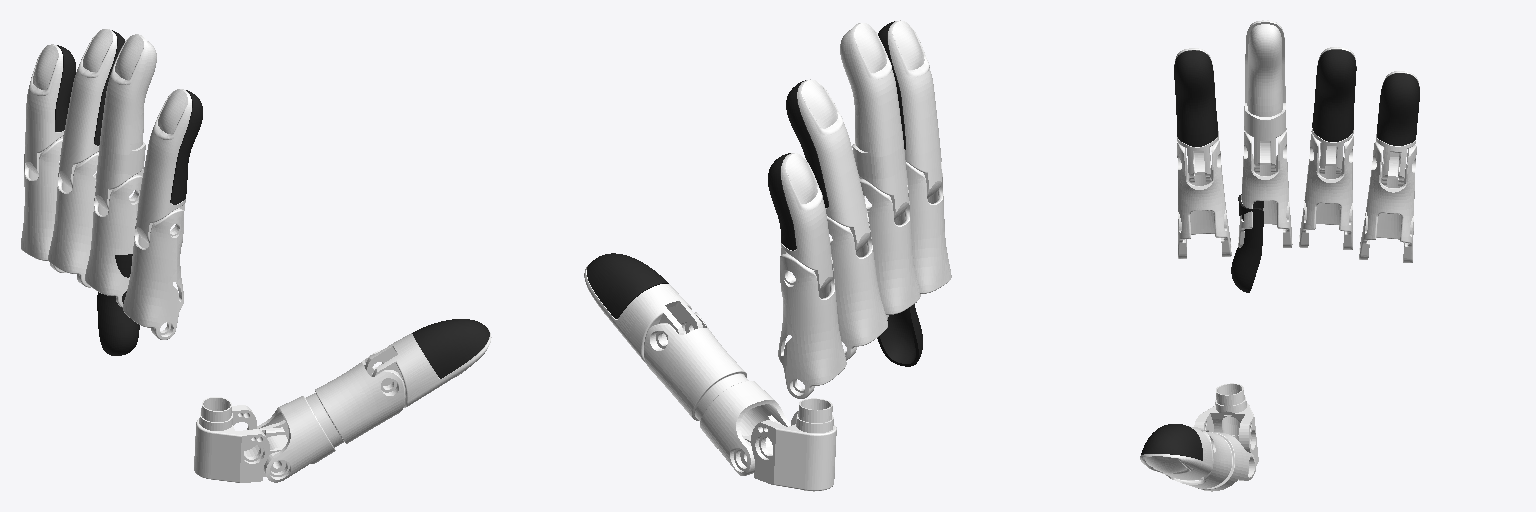
URDF robot description (L_DH116-L000-A1):
<?xml version="1.0" encoding="utf-8"?>
<!-- This URDF was automatically created by SolidWorks to URDF Exporter! Originally created by [author] ([email redacted]) 
     Commit Version: 1.6.0-4-g7f85cfe  Build Version: 1.6.7995.38578
     For more information, please see http://wiki.ros.org/sw_urdf_exporter -->
<robot name="L_DH116-L000-A1">
  <link name="L_base_link">
    <inertial>
      <origin xyz="-0.004908 -0.0023087 0.053425" rpy="0 0 0" />
      <mass value="0.11674" />
      <inertia ixx="8.8343E-05" ixy="-1.5779E-07" ixz="2.7103E-06" iyy="5.7065E-05" iyz="4.0956E-07" izz="4.4559E-05" />
    </inertial>
    <visual>
      <origin xyz="0 0 0" rpy="0 0 0" />
      <geometry>
        <mesh filename="L_package://DH116-L000-A1/meshes/base_link.STL" />
      </geometry>
      <material name="L_">
        <color rgba="1 1 1 1" />
      </material>
    </visual>
    <collision>
      <origin xyz="0 0 0" rpy="0 0 0" />
      <geometry>
        <mesh filename="L_package://DH116-L000-A1/meshes/base_link.STL" />
      </geometry>
    </collision>
  </link>
  <link name="L_finger11_Link">
    <inertial>
      <origin xyz="0.0078225 -0.0020462 0.00068777" rpy="0 0 0" />
      <mass value="0.010254" />
      <inertia ixx="7.2141E-07" ixy="1.1025E-07" ixz="1.8578E-07" iyy="1.1141E-06" iyz="-4.8596E-08" izz="1.144E-06" />
    </inertial>
    <visual>
      <origin xyz="0 0 0" rpy="0 0 0" />
      <geometry>
        <mesh filename="L_package://DH116-L000-A1/meshes/finger11_Link.STL" />
      </geometry>
      <material name="L_">
        <color rgba="1 1 1 1" />
      </material>
    </visual>
    <collision>
      <origin xyz="0 0 0" rpy="0 0 0" />
      <geometry>
        <mesh filename="L_package://DH116-L000-A1/meshes/finger11_Link.STL" />
      </geometry>
    </collision>
  </link>
  <joint name="L_finger11" type="revolute">
    <origin xyz="0.018 -0.021464 0.040041" rpy="0.087266 0 0" />
    <parent link="L_base_link" />
    <child link="L_finger11_Link" />
    <axis xyz="0 0 1" />
    <limit lower="-1.57" upper="1.57" effort="0" velocity="0" />
  </joint>
  <link name="L_finger12_Link">
    <inertial>
      <origin xyz="0.001442 5.4239E-07 0.024371" rpy="0 0 0" />
      <mass value="0.010117" />
      <inertia ixx="2.4721E-06" ixy="3.5819E-11" ixz="-8.7771E-08" iyy="2.2849E-06" iyz="1.0447E-12" izz="8.8673E-07" />
    </inertial>
    <visual>
      <origin xyz="0 0 0" rpy="0 0 0" />
      <geometry>
        <mesh filename="L_package://DH116-L000-A1/meshes/finger12_Link.STL" />
      </geometry>
      <material name="L_">
        <color rgba="1 1 1 1" />
      </material>
    </visual>
    <collision>
      <origin xyz="0 0 0" rpy="0 0 0" />
      <geometry>
        <mesh filename="L_package://DH116-L000-A1/meshes/finger12_Link.STL" />
      </geometry>
    </collision>
  </link>
  <joint name="L_finger12" type="revolute">
    <origin xyz="0.018876 -0.0049375 -0.0023593" rpy="0 0.95149 -0.25585" />
    <parent link="L_finger11_Link" />
    <child link="L_finger12_Link" />
    <axis xyz="0 -1 0" />
    <limit lower="0" upper="1.57" effort="0" velocity="0" />
  </joint>
  <link name="L_finger13_Link">
    <inertial>
      <origin xyz="0.0064864 1.9023E-06 0.014709" rpy="0 0 0" />
      <mass value="0.020548" />
      <inertia ixx="2.4642E-06" ixy="-1.8605E-10" ixz="-1.2758E-07" iyy="2.3554E-06" iyz="-2.9766E-10" izz="8.7678E-07" />
    </inertial>
    <visual>
      <origin xyz="0 0 0" rpy="0 0 0" />
      <geometry>
        <mesh filename="L_package://DH116-L000-A1/meshes/finger13_Link.STL" />
      </geometry>
      <material name="L_">
        <color rgba="1 1 1 1" />
      </material>
    </visual>
    <collision>
      <origin xyz="0 0 0" rpy="0 0 0" />
      <geometry>
        <mesh filename="L_package://DH116-L000-A1/meshes/finger13_Link.STL" />
      </geometry>
    </collision>
  </link>
  <joint name="L_finger13" type="revolute">
    <origin xyz="0 0 0.045" rpy="0 0 0" />
    <parent link="L_finger12_Link" />
    <child link="L_finger13_Link" />
    <axis xyz="0 -1 0" />
    <limit lower="0" upper="1.57" effort="0" velocity="0" />
  </joint>
  <link name="L_finger14_Link">
    <inertial>
      <origin xyz="0.0030983 6.4415E-07 0.024752" rpy="0 0 0" />
      <mass value="0.00063385" />
      <inertia ixx="4.5297E-08" ixy="-1.7549E-11" ixz="-6.8692E-09" iyy="3.0365E-08" iyz="3.6154E-12" izz="3.2628E-08" />
    </inertial>
    <visual>
      <origin xyz="0 0 0" rpy="0 0 0" />
      <geometry>
        <mesh filename="L_package://DH116-L000-A1/meshes/finger14_Link.STL" />
      </geometry>
      <material name="L_">
        <color rgba="0.2 0.2 0.2 1" />
      </material>
    </visual>
    <collision>
      <origin xyz="0 0 0" rpy="0 0 0" />
      <geometry>
        <mesh filename="L_package://DH116-L000-A1/meshes/finger14_Link.STL" />
      </geometry>
    </collision>
  </link>
  <joint name="L_finger14" type="fixed">
    <origin xyz="0 0 0" rpy="0 0 0" />
    <parent link="L_finger13_Link" />
    <child link="L_finger14_Link" />
    <axis xyz="0 0 0" />
    <limit lower="0" upper="1.57" effort="0" velocity="0" />
  </joint>
  <link name="L_finger21_Link">
    <inertial>
      <origin xyz="-0.0017977 4.517E-07 0.018685" rpy="0 0 0" />
      <mass value="0.0067138" />
      <inertia ixx="1.195E-06" ixy="4.4817E-12" ixz="-4.5105E-09" iyy="1.0687E-06" iyz="1.3869E-11" izz="3.7302E-07" />
    </inertial>
    <visual>
      <origin xyz="0 0 0" rpy="0 0 0" />
      <geometry>
        <mesh filename="L_package://DH116-L000-A1/meshes/finger21_Link.STL" />
      </geometry>
      <material name="L_">
        <color rgba="1 1 1 1" />
      </material>
    </visual>
    <collision>
      <origin xyz="0 0 0" rpy="0 0 0" />
      <geometry>
        <mesh filename="L_package://DH116-L000-A1/meshes/finger21_Link.STL" />
      </geometry>
    </collision>
  </link>
  <joint name="L_finger21" type="revolute">
    <origin xyz="-0.011581 -0.031971 0.10003" rpy="0.052657 0.10625 0.0055894" />
    <parent link="L_base_link" />
    <child link="L_finger21_Link" />
    <axis xyz="0 1 0" />
    <limit lower="0" upper="1.57" effort="0" velocity="0" />
  </joint>
  <link name="L_finger22_Link">
    <inertial>
      <origin xyz="-0.001934 -4.4573E-07 0.02175" rpy="0 0 0" />
      <mass value="0.014791" />
      <inertia ixx="1.4669E-06" ixy="-1.8909E-11" ixz="-1.6607E-07" iyy="1.4892E-06" iyz="5.6761E-11" izz="3.5283E-07" />
    </inertial>
    <visual>
      <origin xyz="0 0 0" rpy="0 0 0" />
      <geometry>
        <mesh filename="L_package://DH116-L000-A1/meshes/finger22_Link.STL" />
      </geometry>
      <material name="L_">
        <color rgba="1 1 1 1" />
      </material>
    </visual>
    <collision>
      <origin xyz="0 0 0" rpy="0 0 0" />
      <geometry>
        <mesh filename="L_package://DH116-L000-A1/meshes/finger22_Link.STL" />
      </geometry>
    </collision>
  </link>
  <joint name="L_finger22" type="revolute">
    <origin xyz="0 0 0.035" rpy="0 0 0" />
    <parent link="L_finger21_Link" />
    <child link="L_finger22_Link" />
    <axis xyz="0 1 0" />
    <limit lower="0" upper="1.57" effort="0" velocity="0" />
  </joint>
  <link name="L_finger23_Link">
    <inertial>
      <origin xyz="0.0027522 -5.9223E-07 0.027469" rpy="0 0 0" />
      <mass value="0.00081811" />
      <inertia ixx="1.0639E-07" ixy="-3.5393E-13" ixz="-9.0804E-09" iyy="9.4373E-08" iyz="7.1781E-12" izz="2.3583E-08" />
    </inertial>
    <visual>
      <origin xyz="0 0 0" rpy="0 0 0" />
      <geometry>
        <mesh filename="L_package://DH116-L000-A1/meshes/finger23_Link.STL" />
      </geometry>
      <material name="L_">
        <color rgba="0.2 0.2 0.2 1" />
      </material>
    </visual>
    <collision>
      <origin xyz="0 0 0" rpy="0 0 0" />
      <geometry>
        <mesh filename="L_package://DH116-L000-A1/meshes/finger23_Link.STL" />
      </geometry>
    </collision>
  </link>
  <joint name="L_finger23" type="fixed">
    <origin xyz="0 0 0" rpy="0 0 0" />
    <parent link="L_finger22_Link" />
    <child link="L_finger23_Link" />
    <axis xyz="0 0 0" />
    <limit lower="0" upper="1.57" effort="0" velocity="0" />
  </joint>
  <link name="L_finger31_Link">
    <inertial>
      <origin xyz="-0.0017977 3.6375E-07 0.018685" rpy="0 0 0" />
      <mass value="0.0067137" />
      <inertia ixx="1.195E-06" ixy="7.1207E-12" ixz="-4.5072E-09" iyy="1.0687E-06" iyz="1.6816E-11" izz="3.7302E-07" />
    </inertial>
    <visual>
      <origin xyz="0 0 0" rpy="0 0 0" />
      <geometry>
        <mesh filename="L_package://DH116-L000-A1/meshes/finger31_Link.STL" />
      </geometry>
      <material name="L_">
        <color rgba="1 1 1 1" />
      </material>
    </visual>
    <collision>
      <origin xyz="0 0 0" rpy="0 0 0" />
      <geometry>
        <mesh filename="L_package://DH116-L000-A1/meshes/finger31_Link.STL" />
      </geometry>
    </collision>
  </link>
  <joint name="L_finger31" type="revolute">
    <origin xyz="-0.013501 -0.0105 0.10286" rpy="0 0.10214 0" />
    <parent link="L_base_link" />
    <child link="L_finger31_Link" />
    <axis xyz="0 1 0" />
    <limit lower="0" upper="1.57" effort="0" velocity="0" />
  </joint>
  <link name="L_finger32_Link">
    <inertial>
      <origin xyz="-0.0021235 -2.8524E-07 0.024937" rpy="0 0 0" />
      <mass value="0.017437" />
      <inertia ixx="4.1693E-06" ixy="-2.5515E-11" ixz="-2.6509E-07" iyy="4.1909E-06" iyz="9.5471E-11" izz="4.4314E-07" />
    </inertial>
    <visual>
      <origin xyz="0 0 0" rpy="0 0 0" />
      <geometry>
        <mesh filename="L_package://DH116-L000-A1/meshes/finger32_Link.STL" />
      </geometry>
      <material name="L_">
        <color rgba="1 1 1 1" />
      </material>
    </visual>
    <collision>
      <origin xyz="0 0 0" rpy="0 0 0" />
      <geometry>
        <mesh filename="L_package://DH116-L000-A1/meshes/finger32_Link.STL" />
      </geometry>
    </collision>
  </link>
  <joint name="L_finger32" type="revolute">
    <origin xyz="0 0 0.035" rpy="0 0 0" />
    <parent link="L_finger31_Link" />
    <child link="L_finger32_Link" />
    <axis xyz="0 1 0" />
    <limit lower="0" upper="1.57" effort="0" velocity="0" />
  </joint>
  <link name="L_finger33_Link">
    <inertial>
      <origin xyz="7.153E-07 -0.0067137 -0.037473" rpy="0 0 0" />
      <mass value="0.00081807" />
      <inertia ixx="9.4367E-08" ixy="7.2819E-13" ixz="7.4794E-12" iyy="1.0642E-07" iyz="-8.9658E-09" izz="2.3554E-08" />
    </inertial>
    <visual>
      <origin xyz="0 0 0" rpy="0 0 0" />
      <geometry>
        <mesh filename="L_package://DH116-L000-A1/meshes/finger33_Link.STL" />
      </geometry>
      <material name="L_">
        <color rgba="0.2 0.2 0.2 1" />
      </material>
    </visual>
    <collision>
      <origin xyz="0 0 0" rpy="0 0 0" />
      <geometry>
        <mesh filename="L_package://DH116-L000-A1/meshes/finger33_Link.STL" />
      </geometry>
    </collision>
  </link>
  <joint name="L_finger33" type="fixed">
    <origin xyz="0 0 0" rpy="0 0 0" />
    <parent link="L_finger32_Link" />
    <child link="L_finger33_Link" />
    <axis xyz="0 0 0" />
    <limit lower="0" upper="1.57" effort="0" velocity="0" />
  </joint>
  <link name="L_finger41_Link">
    <inertial>
      <origin xyz="-0.0017978 4.6307E-07 0.018685" rpy="0 0 0" />
      <mass value="0.0067137" />
      <inertia ixx="1.195E-06" ixy="-3.5541E-12" ixz="-4.505E-09" iyy="1.0687E-06" iyz="6.8595E-13" izz="3.7301E-07" />
    </inertial>
    <visual>
      <origin xyz="0 0 0" rpy="0 0 0" />
      <geometry>
        <mesh filename="L_package://DH116-L000-A1/meshes/finger41_Link.STL" />
      </geometry>
      <material name="L_">
        <color rgba="1 1 1 1" />
      </material>
    </visual>
    <collision>
      <origin xyz="0 0 0" rpy="0 0 0" />
      <geometry>
        <mesh filename="L_package://DH116-L000-A1/meshes/finger41_Link.STL" />
      </geometry>
    </collision>
  </link>
  <joint name="L_finger41" type="revolute">
    <origin xyz="-0.015081 0.010971 0.10183" rpy="-0.052889 0.14148 -0.0074648" />
    <parent link="L_base_link" />
    <child link="L_finger41_Link" />
    <axis xyz="0 1 0" />
    <limit lower="0" upper="1.57" effort="0" velocity="0" />
  </joint>
  <link name="L_finger42_Link">
    <inertial>
      <origin xyz="-0.00099518 -3.8607E-07 0.021813" rpy="0 0 0" />
      <mass value="0.014791" />
      <inertia ixx="1.4505E-06" ixy="-2.9273E-11" ixz="-2.1339E-07" iyy="1.4892E-06" iyz="6.1801E-11" izz="3.692E-07" />
    </inertial>
    <visual>
      <origin xyz="0 0 0" rpy="0 0 0" />
      <geometry>
        <mesh filename="L_package://DH116-L000-A1/meshes/finger42_Link.STL" />
      </geometry>
      <material name="L_">
        <color rgba="1 1 1 1" />
      </material>
    </visual>
    <collision>
      <origin xyz="0 0 0" rpy="0 0 0" />
      <geometry>
        <mesh filename="L_package://DH116-L000-A1/meshes/finger42_Link.STL" />
      </geometry>
    </collision>
  </link>
  <joint name="L_finger42" type="revolute">
    <origin xyz="0 0 0.035" rpy="0 0 0" />
    <parent link="L_finger41_Link" />
    <child link="L_finger42_Link" />
    <axis xyz="0 1 0" />
    <limit lower="0" upper="1.57" effort="0" velocity="0" />
  </joint>
  <link name="L_finger43_Link">
    <inertial>
      <origin xyz="0.0039329 -6.1523E-07 0.027325" rpy="0 0 0" />
      <mass value="0.00081812" />
      <inertia ixx="1.0545E-07" ixy="-2.6832E-13" ixz="-1.261E-08" iyy="9.4369E-08" iyz="6.0613E-12" izz="2.452E-08" />
    </inertial>
    <visual>
      <origin xyz="0 0 0" rpy="0 0 0" />
      <geometry>
        <mesh filename="L_package://DH116-L000-A1/meshes/finger43_Link.STL" />
      </geometry>
      <material name="L_">
        <color rgba="0.2 0.2 0.2 1" />
      </material>
    </visual>
    <collision>
      <origin xyz="0 0 0" rpy="0 0 0" />
      <geometry>
        <mesh filename="L_package://DH116-L000-A1/meshes/finger43_Link.STL" />
      </geometry>
    </collision>
  </link>
  <joint name="L_finger43" type="fixed">
    <origin xyz="0 0 0" rpy="0 0 0" />
    <parent link="L_finger42_Link" />
    <child link="L_finger43_Link" />
    <axis xyz="0 0 0" />
    <limit lower="0" upper="1.57" effort="0" velocity="0" />
  </joint>
  <link name="L_finger51_Link">
    <inertial>
      <origin xyz="-0.0017977 3.5129E-07 0.018685" rpy="0 0 0" />
      <mass value="0.0067139" />
      <inertia ixx="1.195E-06" ixy="2.1372E-12" ixz="-4.5117E-09" iyy="1.0687E-06" iyz="5.8565E-12" izz="3.7302E-07" />
    </inertial>
    <visual>
      <origin xyz="0 0 0" rpy="0 0 0" />
      <geometry>
        <mesh filename="L_package://DH116-L000-A1/meshes/finger51_Link.STL" />
      </geometry>
      <material name="L_">
        <color rgba="1 1 1 1" />
      </material>
    </visual>
    <collision>
      <origin xyz="0 0 0" rpy="0 0 0" />
      <geometry>
        <mesh filename="L_package://DH116-L000-A1/meshes/finger51_Link.STL" />
      </geometry>
    </collision>
  </link>
  <joint name="L_finger51" type="revolute">
    <origin xyz="-0.013081 0.032156 0.097798" rpy="-0.078754 0.073706 -0.0058113" />
    <parent link="L_base_link" />
    <child link="L_finger51_Link" />
    <axis xyz="0 1 0" />
    <limit lower="0" upper="1.57" effort="0" velocity="0" />
  </joint>
  <link name="L_finger52_Link">
    <inertial>
      <origin xyz="-0.0024418 -8.1825E-07 0.016654" rpy="0 0 0" />
      <mass value="0.010439" />
      <inertia ixx="1.3354E-06" ixy="-3.1558E-11" ixz="-1.1834E-07" iyy="1.3473E-06" iyz="7.0815E-11" izz="2.4653E-07" />
    </inertial>
    <visual>
      <origin xyz="0 0 0" rpy="0 0 0" />
      <geometry>
        <mesh filename="L_package://DH116-L000-A1/meshes/finger52_Link.STL" />
      </geometry>
      <material name="L_">
        <color rgba="1 1 1 1" />
      </material>
    </visual>
    <collision>
      <origin xyz="0 0 0" rpy="0 0 0" />
      <geometry>
        <mesh filename="L_package://DH116-L000-A1/meshes/finger52_Link.STL" />
      </geometry>
    </collision>
  </link>
  <joint name="L_finger52" type="revolute">
    <origin xyz="0 0 0.035" rpy="0 0 0" />
    <parent link="L_finger51_Link" />
    <child link="L_finger52_Link" />
    <axis xyz="0 1 0" />
    <limit lower="0" upper="1.57" effort="0" velocity="0" />
  </joint>
  <link name="L_finger53_Link">
    <inertial>
      <origin xyz="0.0021844 1.1224E-06 0.022782" rpy="0 0 0" />
      <mass value="0.00058044" />
      <inertia ixx="4.4456E-08" ixy="1.8383E-12" ixz="-3.5021E-09" iyy="3.5896E-08" iyz="-1.5936E-12" izz="1.5583E-08" />
    </inertial>
    <visual>
      <origin xyz="0 0 0" rpy="0 0 0" />
      <geometry>
        <mesh filename="L_package://DH116-L000-A1/meshes/finger53_Link.STL" />
      </geometry>
      <material name="L_">
        <color rgba="0.2 0.2 0.2 1" />
      </material>
    </visual>
    <collision>
      <origin xyz="0 0 0" rpy="0 0 0" />
      <geometry>
        <mesh filename="L_package://DH116-L000-A1/meshes/finger53_Link.STL" />
      </geometry>
    </collision>
  </link>
  <joint name="L_finger53" type="fixed">
    <origin xyz="0 0 0" rpy="0 0 0" />
    <parent link="L_finger52_Link" />
    <child link="L_finger53_Link" />
    <axis xyz="0 0 0" />
    <limit lower="0" upper="1.57" effort="0" velocity="0" />
  </joint>
</robot>

--- Facts derived from the render (not from the file) ---
3 views of the same robot in one strip: view 1: azimuth 30°, elevation 25°; view 2: azimuth 150°, elevation 25°; view 3: azimuth 270°, elevation 25° (orthographic).
Robot: L_DH116-L000-A1 — 17 links, 16 joints (11 revolute, 5 fixed); root link L_base_link; default pose: every joint at zero.
Links seen in each view (by area): view 1: L_finger12_Link, L_finger32_Link, L_finger11_Link, L_finger21_Link, L_finger22_Link, L_finger42_Link, L_finger31_Link, L_finger41_Link, L_finger52_Link, L_finger51_Link, L_finger13_Link, L_finger14_Link (+3 smaller); view 2: L_finger12_Link, L_finger32_Link, L_finger51_Link, L_finger11_Link, L_finger42_Link, L_finger22_Link, L_finger41_Link, L_finger31_Link, L_finger52_Link, L_finger21_Link, L_finger13_Link, L_finger14_Link (+3 smaller); view 3: L_finger32_Link, L_finger51_Link, L_finger21_Link, L_finger41_Link, L_finger23_Link, L_finger43_Link, L_finger31_Link, L_finger53_Link, L_finger11_Link, L_finger12_Link, L_finger33_Link, L_finger13_Link (+4 smaller).
Boxes of the visible links, x1=… form: L_finger12_Link: x1=257, y1=350, x2=405, y2=482; L_finger32_Link: x1=95, y1=34, x2=156, y2=210; L_finger11_Link: x1=194, y1=397, x2=287, y2=482; L_finger21_Link: x1=123, y1=208, x2=183, y2=339; L_finger22_Link: x1=136, y1=89, x2=191, y2=242; L_finger42_Link: x1=59, y1=29, x2=116, y2=187; L_finger31_Link: x1=85, y1=174, x2=142, y2=307; L_finger41_Link: x1=48, y1=152, x2=98, y2=287; L_finger52_Link: x1=25, y1=44, x2=64, y2=175; L_finger51_Link: x1=21, y1=137, x2=63, y2=272; L_finger13_Link: x1=365, y1=329, x2=491, y2=407; L_finger14_Link: x1=412, y1=319, x2=489, y2=378; L_finger12_Link: x1=644, y1=312, x2=790, y2=475; L_finger32_Link: x1=840, y1=23, x2=908, y2=219; L_finger51_Link: x1=778, y1=253, x2=846, y2=398; L_finger11_Link: x1=740, y1=398, x2=836, y2=491; L_finger42_Link: x1=797, y1=79, x2=869, y2=251; L_finger22_Link: x1=888, y1=20, x2=941, y2=198; L_finger41_Link: x1=827, y1=213, x2=887, y2=360; L_finger31_Link: x1=860, y1=179, x2=920, y2=319; L_finger52_Link: x1=781, y1=153, x2=832, y2=291; L_finger21_Link: x1=906, y1=162, x2=951, y2=302; L_finger13_Link: x1=584, y1=266, x2=702, y2=362; L_finger14_Link: x1=587, y1=253, x2=668, y2=318; L_finger32_Link: x1=1244, y1=20, x2=1286, y2=172; L_finger51_Link: x1=1359, y1=142, x2=1416, y2=262; L_finger21_Link: x1=1177, y1=140, x2=1231, y2=258; L_finger41_Link: x1=1299, y1=134, x2=1353, y2=249; L_finger23_Link: x1=1174, y1=50, x2=1217, y2=146; L_finger43_Link: x1=1312, y1=50, x2=1356, y2=141; L_finger31_Link: x1=1238, y1=131, x2=1292, y2=247; L_finger53_Link: x1=1377, y1=73, x2=1419, y2=145; L_finger11_Link: x1=1194, y1=383, x2=1258, y2=465; L_finger12_Link: x1=1166, y1=427, x2=1255, y2=491; L_finger33_Link: x1=1231, y1=194, x2=1263, y2=292; L_finger13_Link: x1=1140, y1=426, x2=1212, y2=479.
Bounding box of the posed robot: 0.1309 × 0.0986 × 0.16 m (x, y, z).
16 mesh visuals loaded from 17 distinct referenced files (16 binary STL); not drawn: 1 (reference not matched to a file when rendering).
